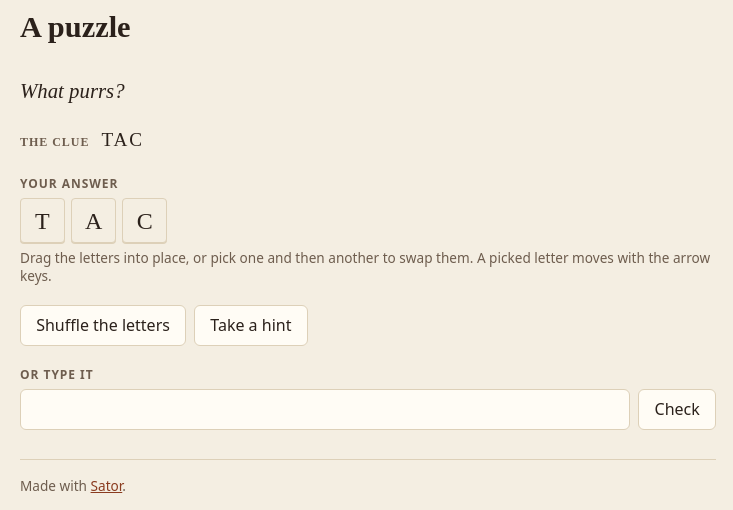
it: the players’ page › moves a picked letter with the arrow keys
Click the button named "C, 3 of 3" at (145, 221), box [122,198,167,243]
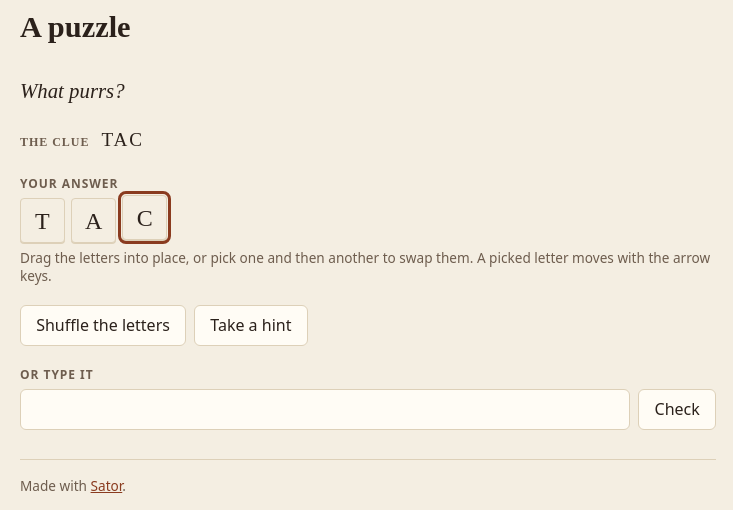
Press Arrowleft Arrowleft Escape
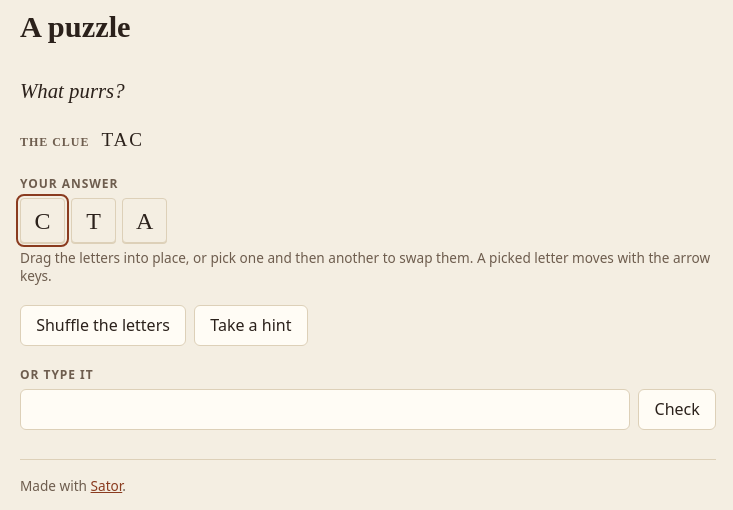
expect the text "It purrs." is not shown: met
Click the button named "T, 2 of 3" at (94, 221), box [71,198,116,243]
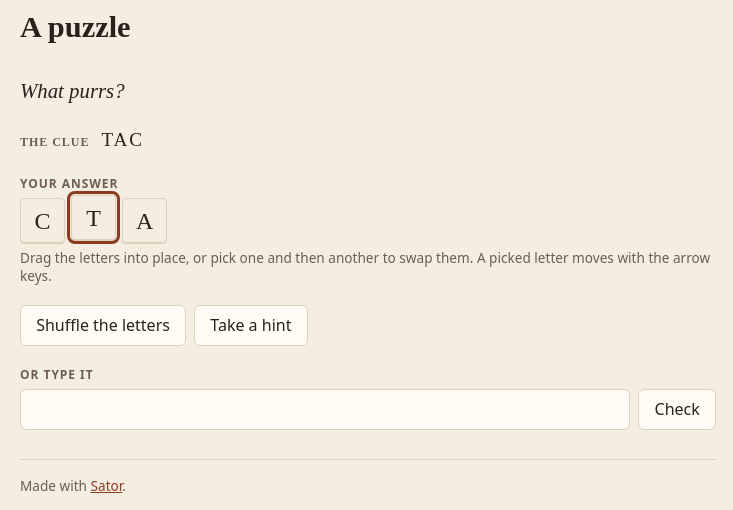
Press Arrowright
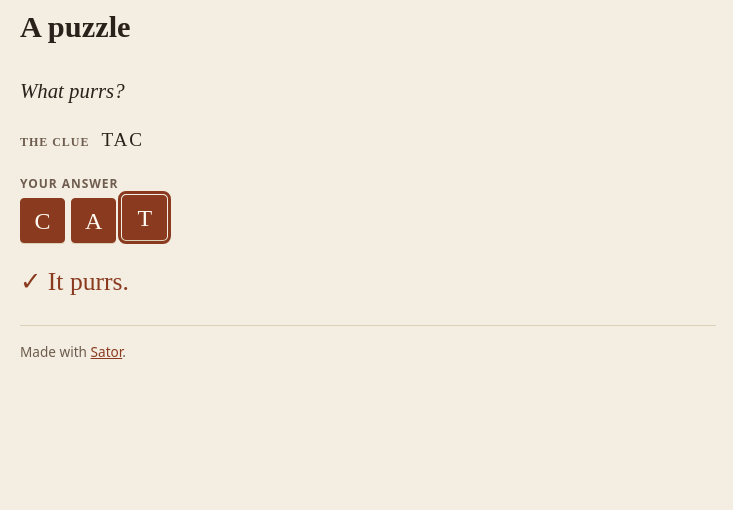
expect the text "It purrs." is shown: met, box [48,267,129,296]
